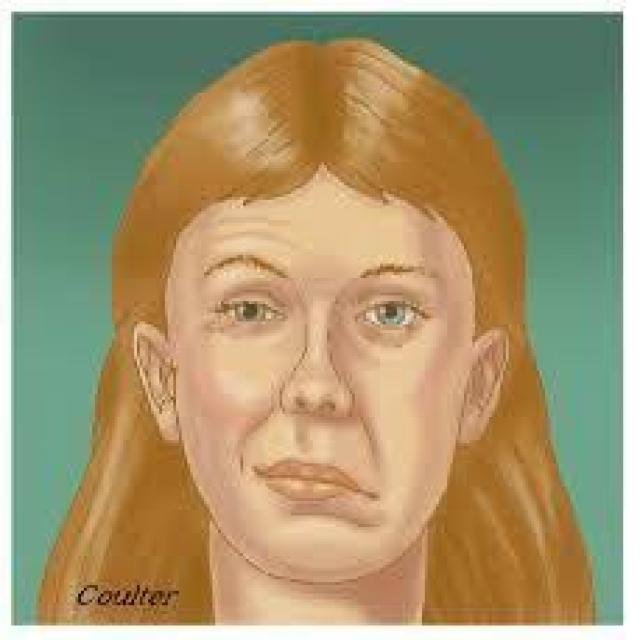stroke_face: (146, 146, 514, 576)
